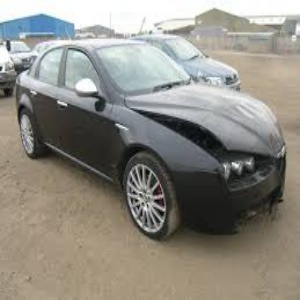bonnet: (170, 97, 284, 157)
